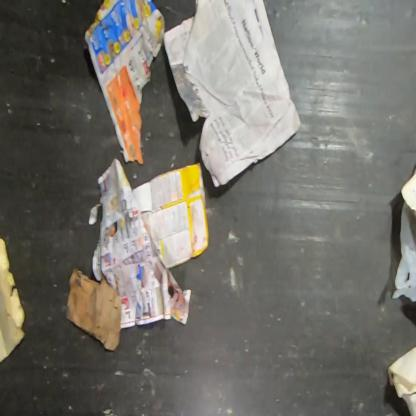cardboard: (131, 161, 210, 270), (65, 263, 123, 353), (0, 237, 26, 365)
soft_plastic: (391, 199, 415, 305)
